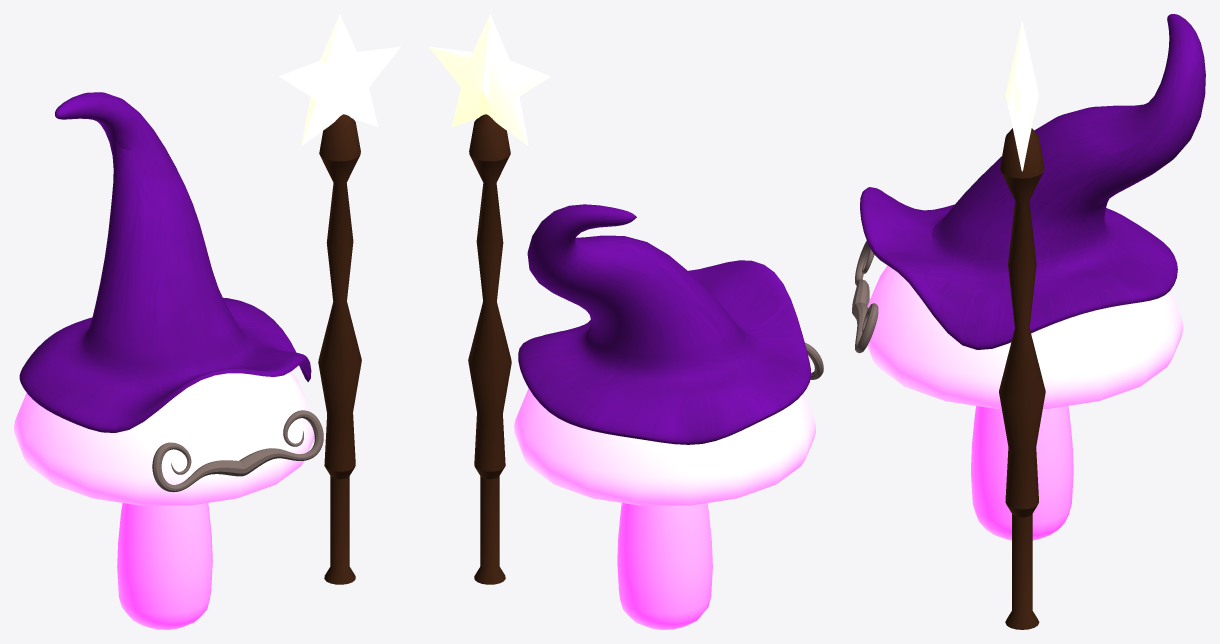
The model's file is Schroom_Magician.fbx.
The picture shows the model from 3 angles, left to right: view 1: azimuth 30°, elevation 25°; view 2: azimuth 150°, elevation 25°; view 3: azimuth 270°, elevation 25°; orthographic projection. The views are drawn at different scales.
Parts seen in each view (by area): view 1: Cylinder.024; view 2: Cylinder.024; view 3: Cylinder.024.
Boxes of the visible parts, x1,y1,x2,y2 form: Cylinder.024: [14, 14, 400, 629]; Cylinder.024: [429, 14, 823, 629]; Cylinder.024: [852, 14, 1205, 629].
Bounding box in the file's own units: 283 × 420 × 223.
